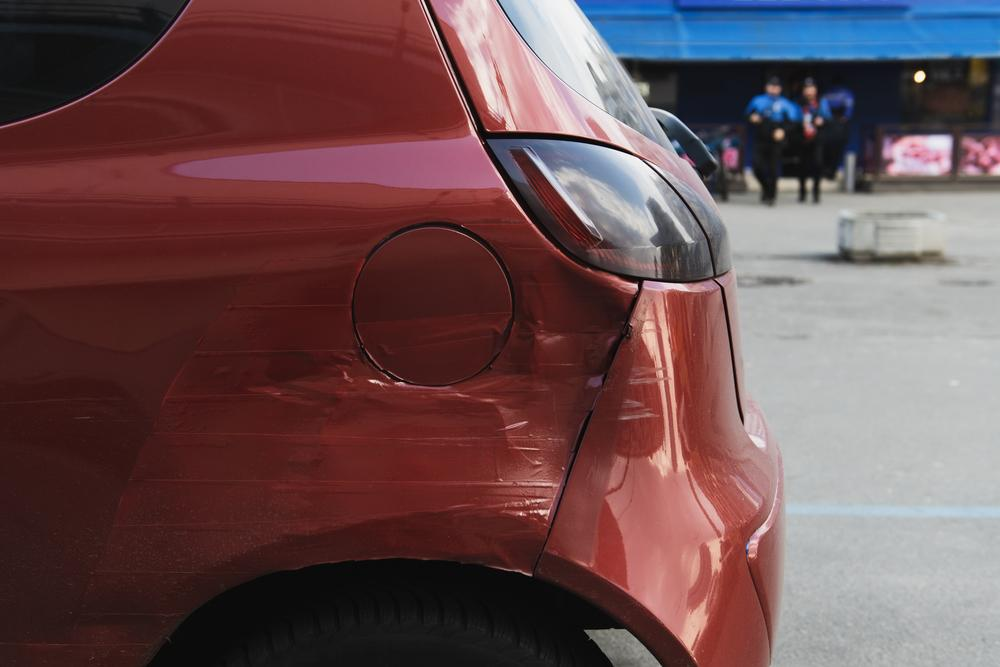dent: (456, 256, 626, 476)
scratch: (615, 361, 670, 427)
